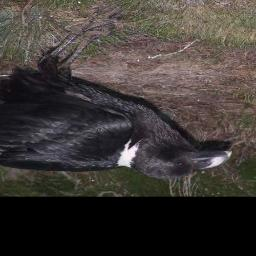Crow: (0, 4, 233, 180)
